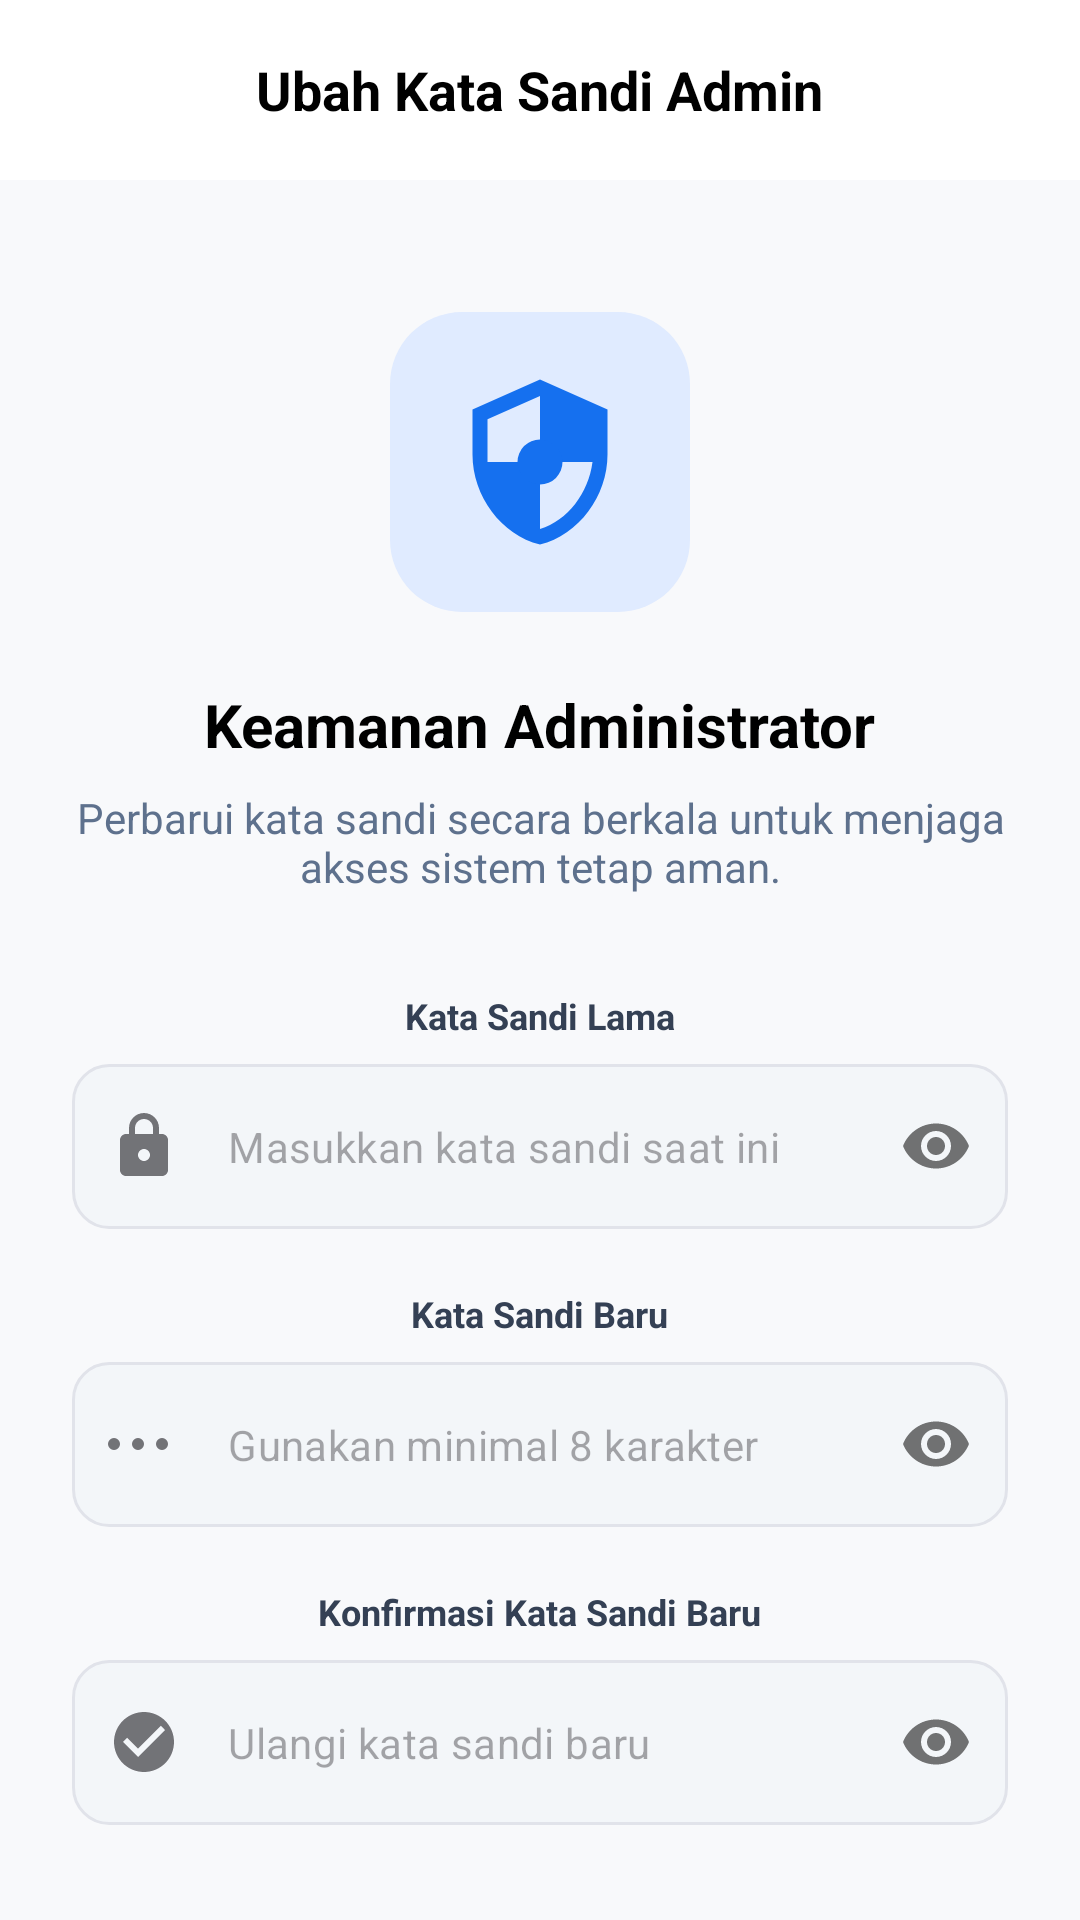

Point at icon controls on the screen. Image size 1080w x 1920h, points as (x=x, y=y).
security user: (x=540, y=462)
